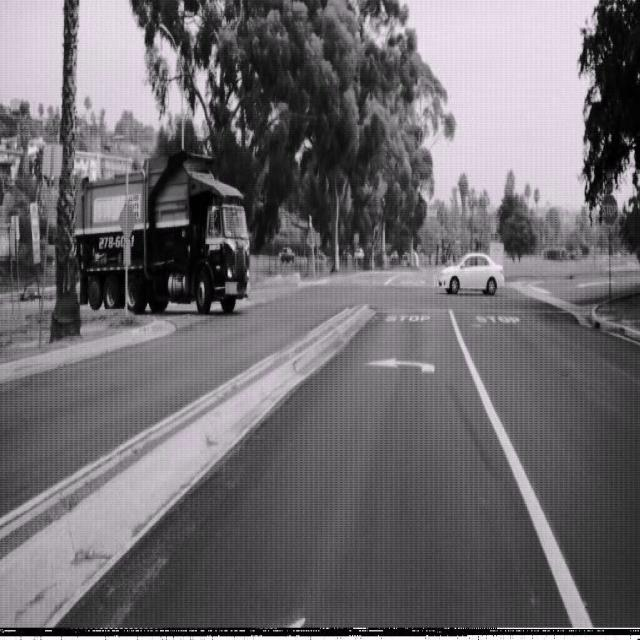stop: (600, 192, 618, 227)
